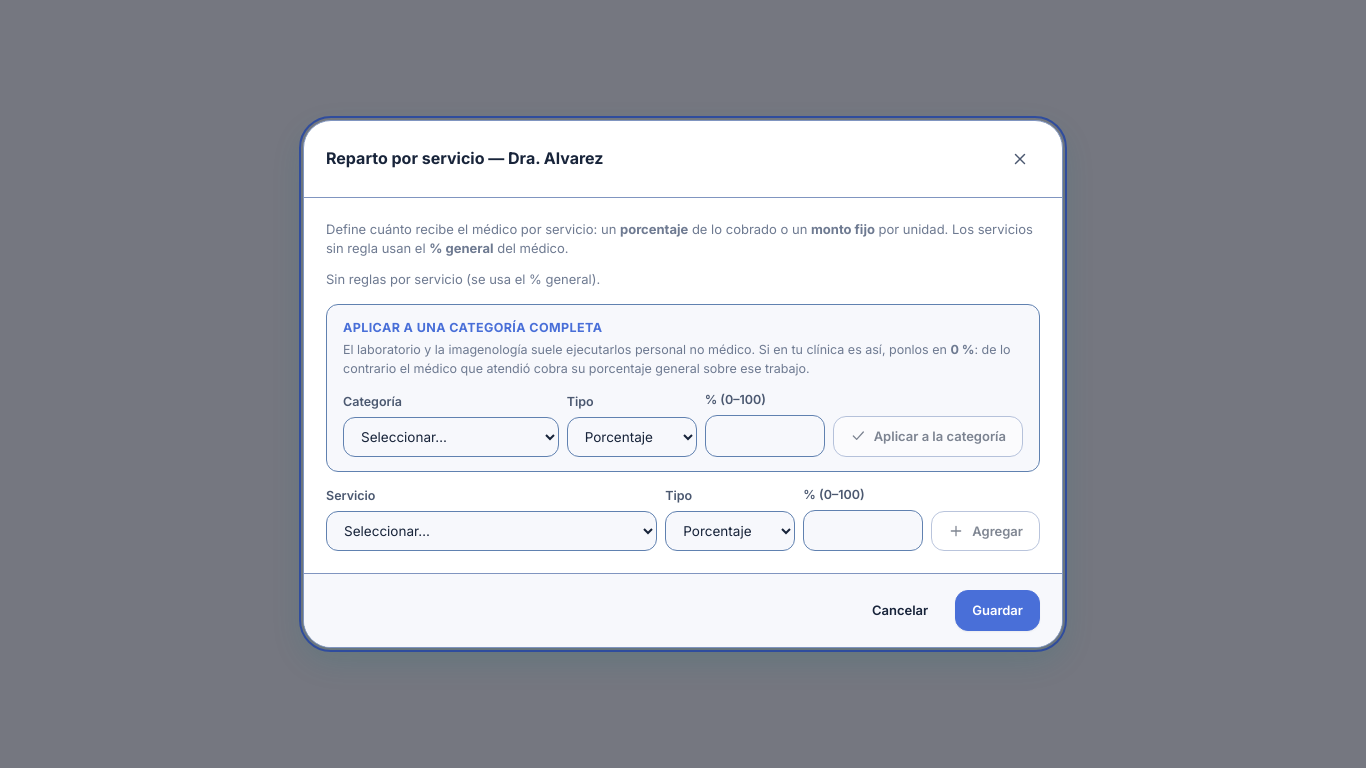
Test: CommissionRulesModal › sets a whole category in one action
The width and height of the screenshot is (1366, 768).
Select "Laboratorio (3)" in the dropdown labelled "Categoría" at (451,437), box [343,417,559,457]
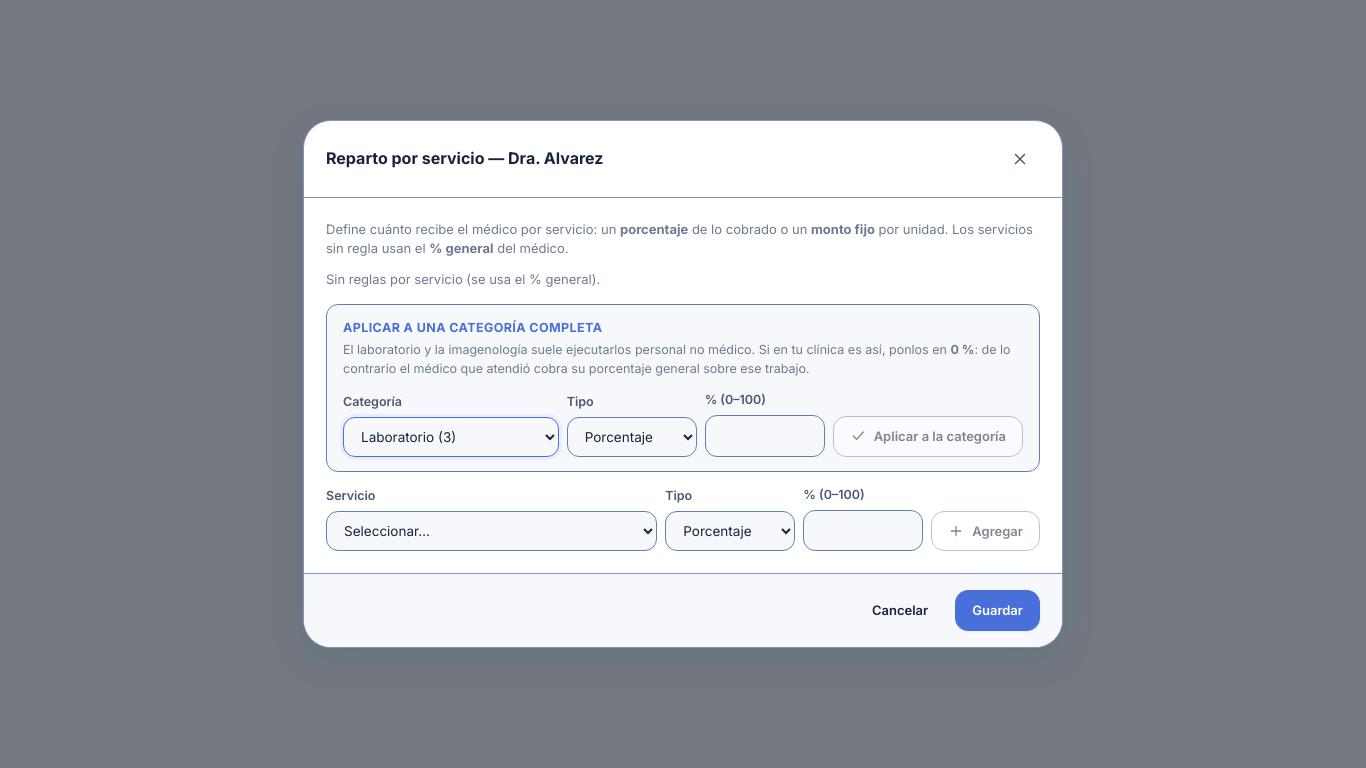
Type "0" into the number field labelled "% (0–100)".
click(765, 436); type("0")  # box [705,415,825,457]
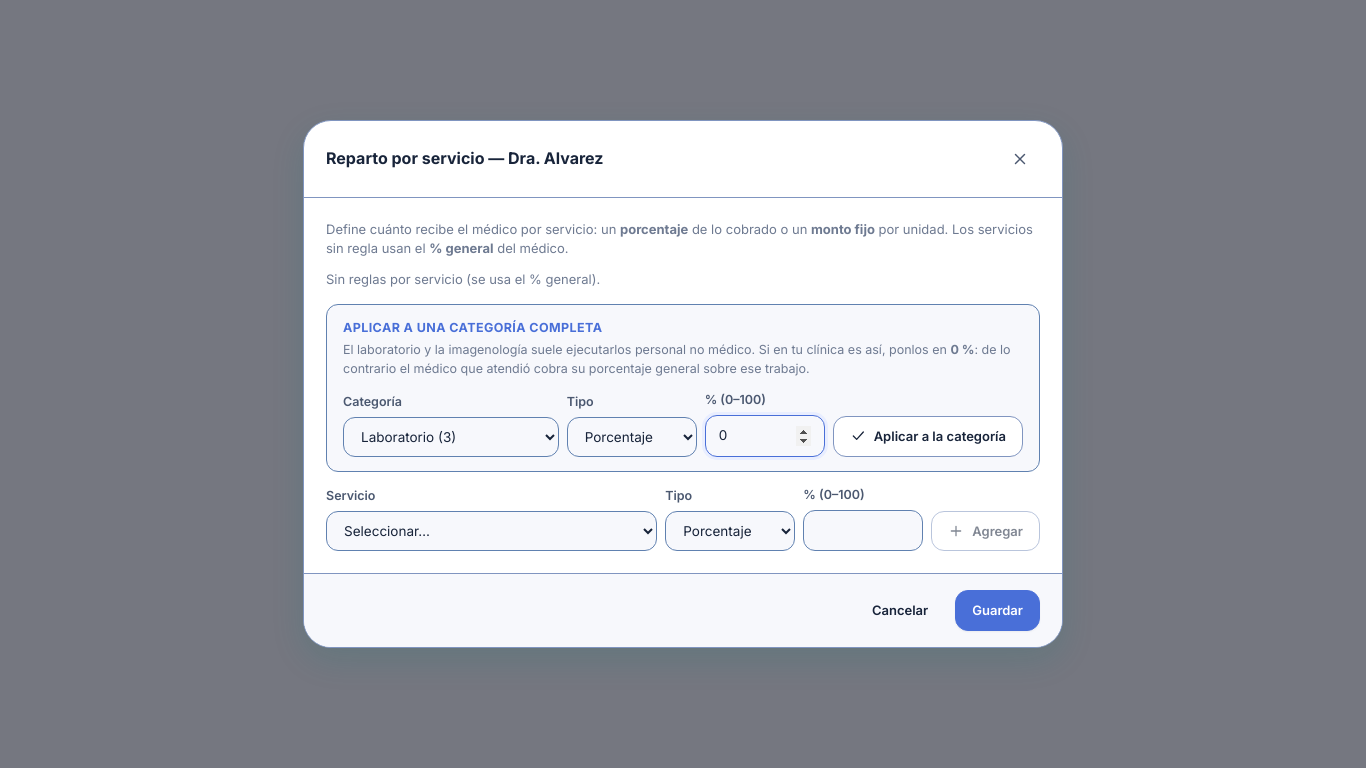
Click the button "Aplicar a la categoría".
click(928, 436)  # box [833,416,1023,457]
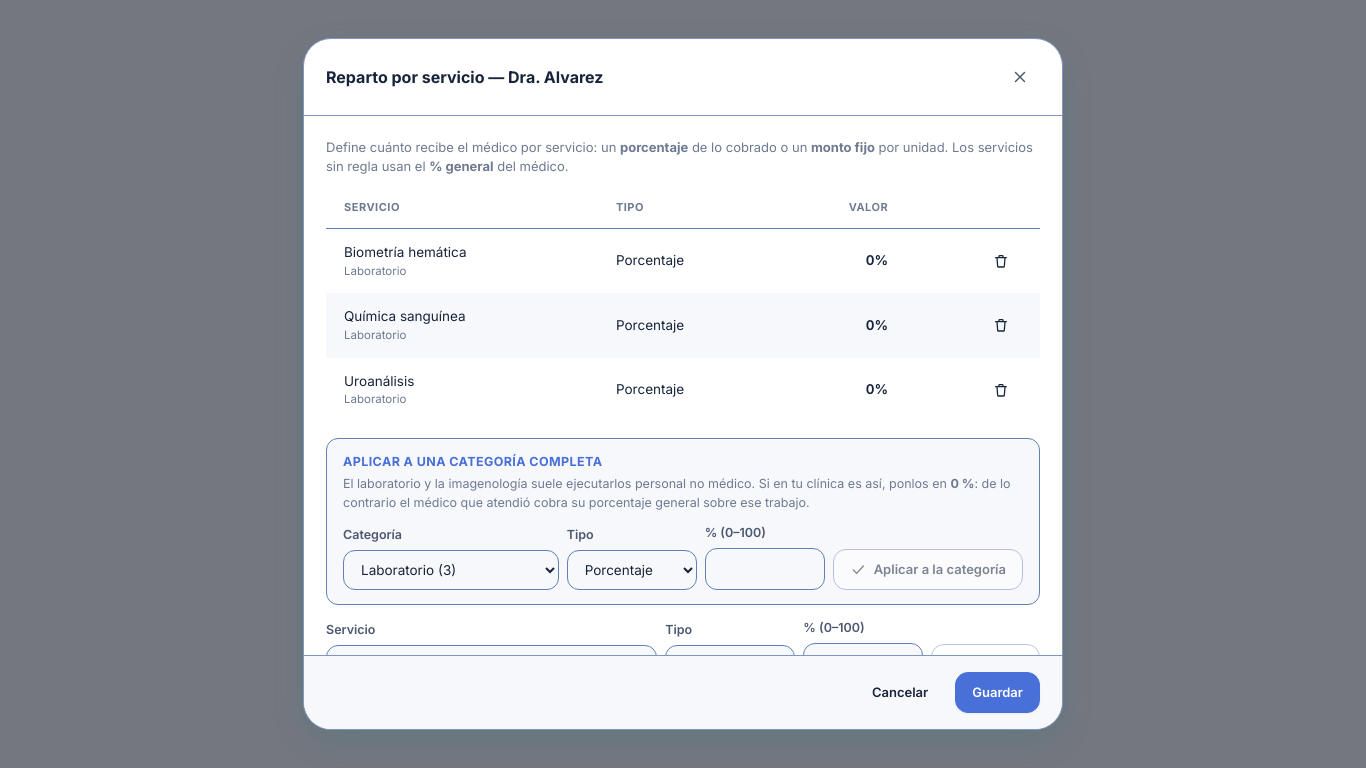
Now the text "Biometría hemática" is shown, box [344,244,466,260]
Now the text "Química sanguínea" is shown, box [344,308,466,324]
Now the text "Uroanálisis" is shown, box [344,372,414,388]
